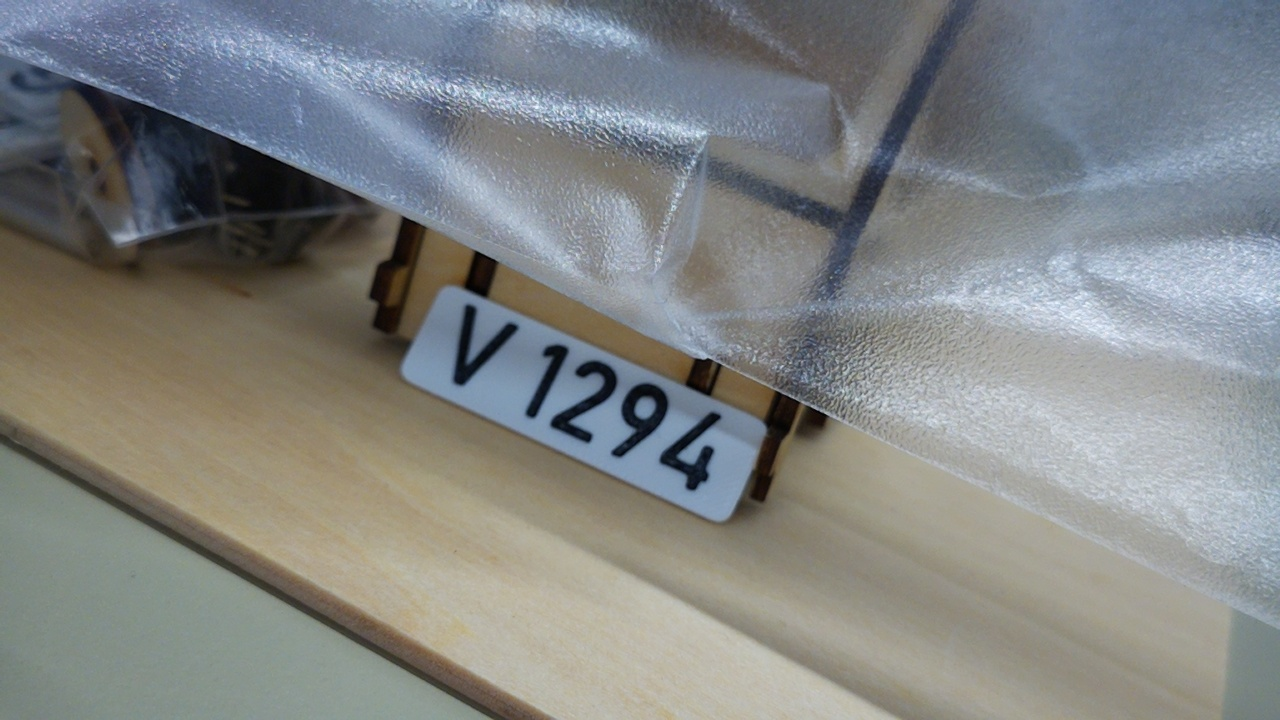license_plate: (396, 281, 775, 526)
